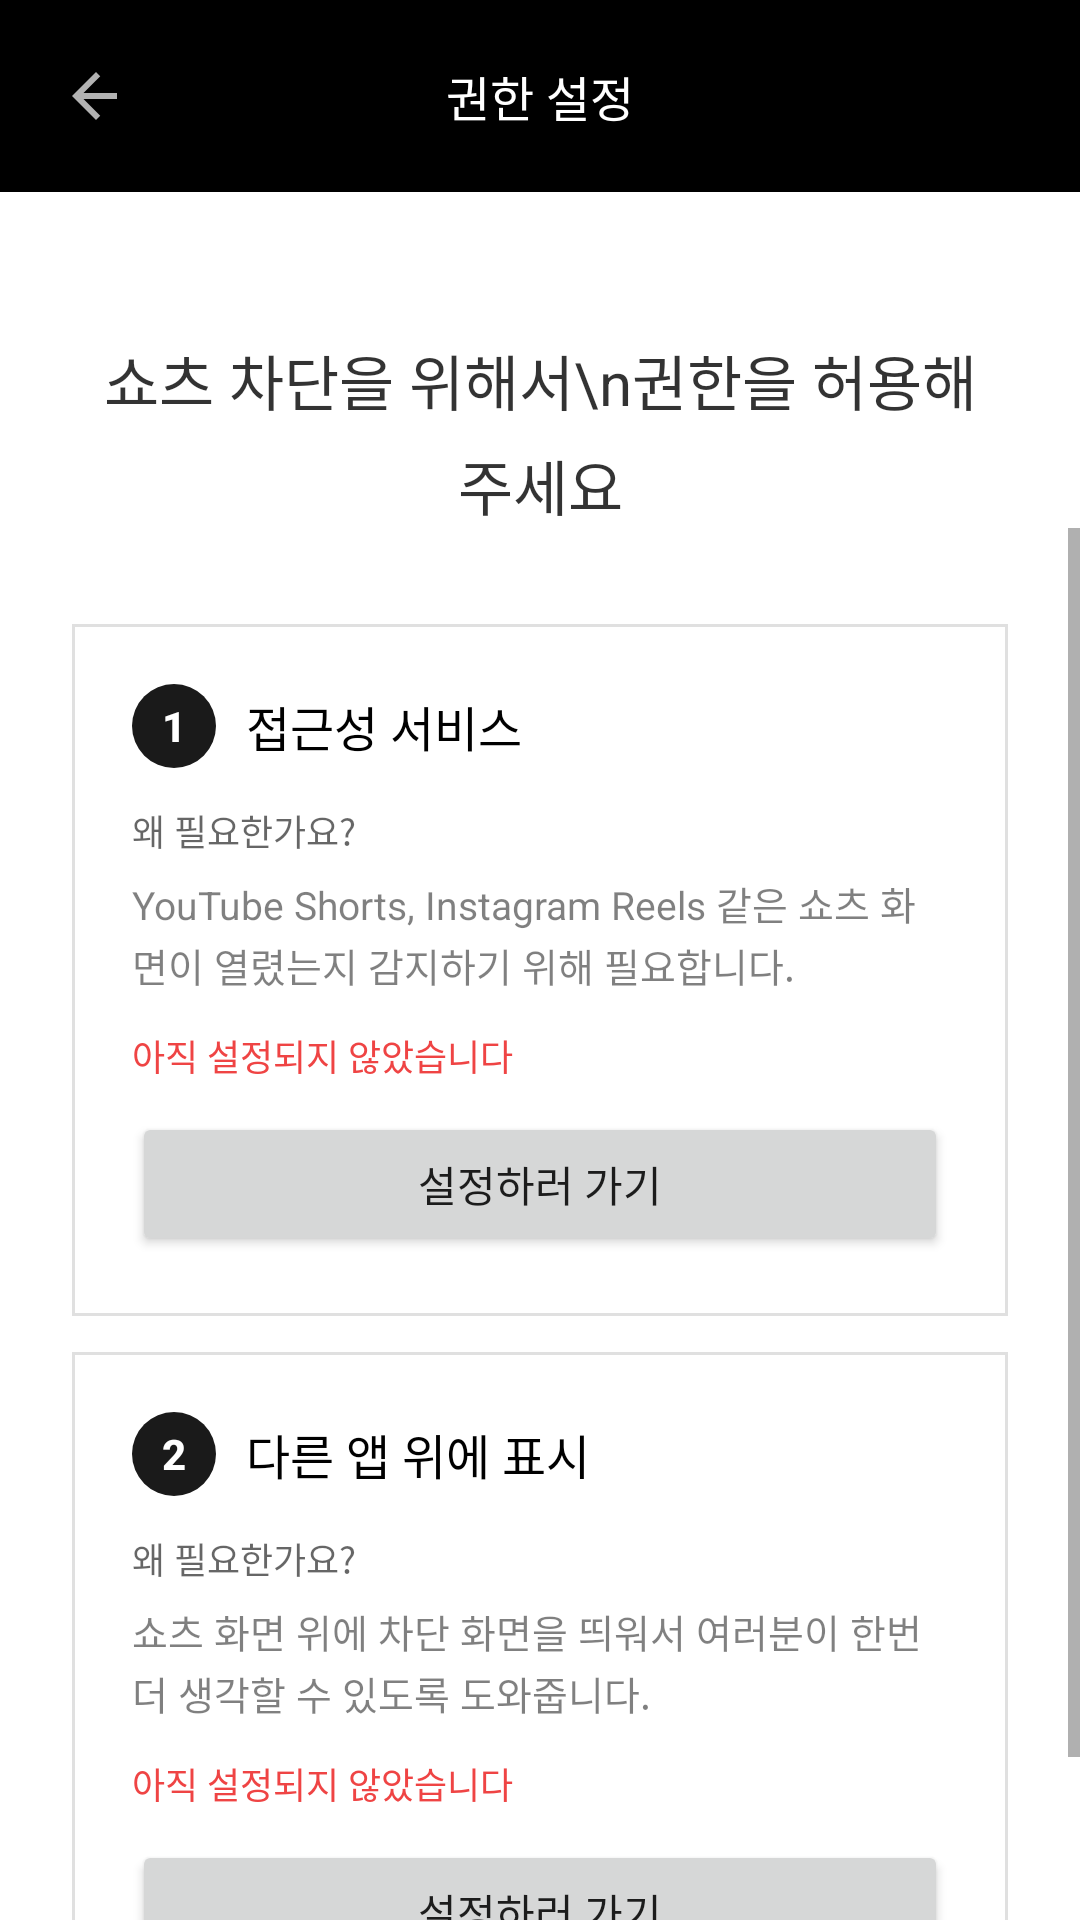

Named icons in this screenshot (1080w x 1920h) and their bounding boxes, box=[x1, y1, x2, y2]:
뒤로 가기: box=[72, 72, 117, 120]
